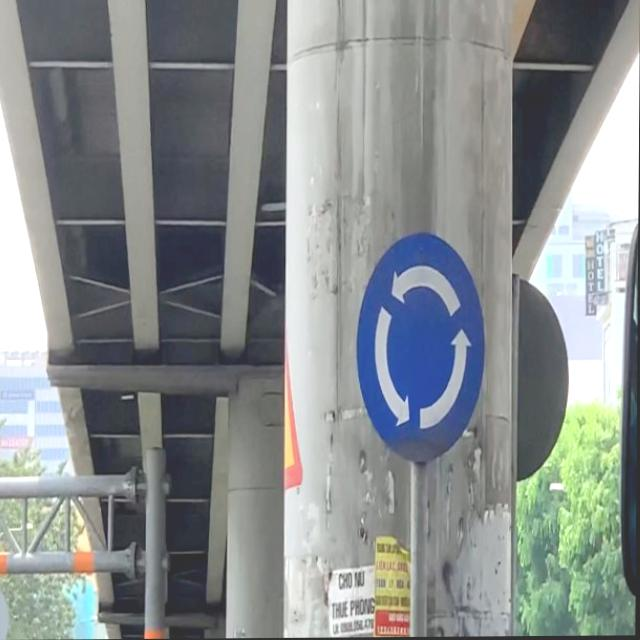Noi giao nhau chay theo vong xuyen: (356, 230, 488, 463)
